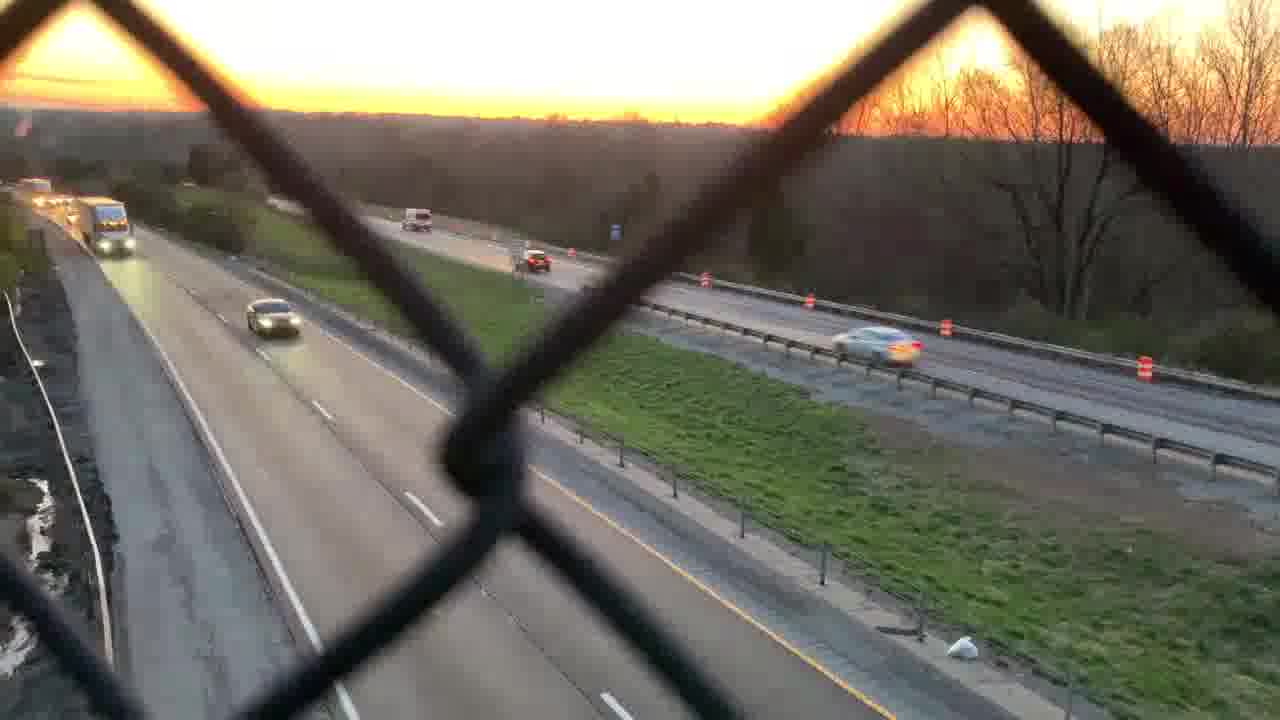heavyTruck: (69, 196, 147, 266), (22, 178, 54, 213)
largeCar: (513, 245, 554, 272), (401, 206, 435, 232)
smallCar: (828, 325, 924, 368), (239, 297, 305, 339)
